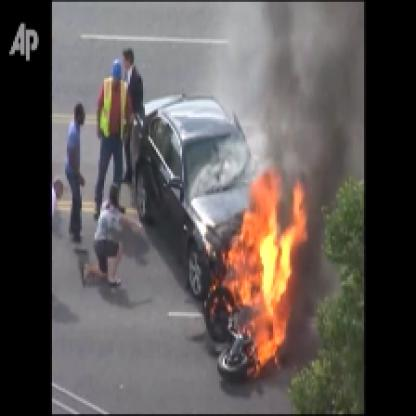Fire: (206, 163, 312, 377)
Smoke: (262, 6, 349, 174)
